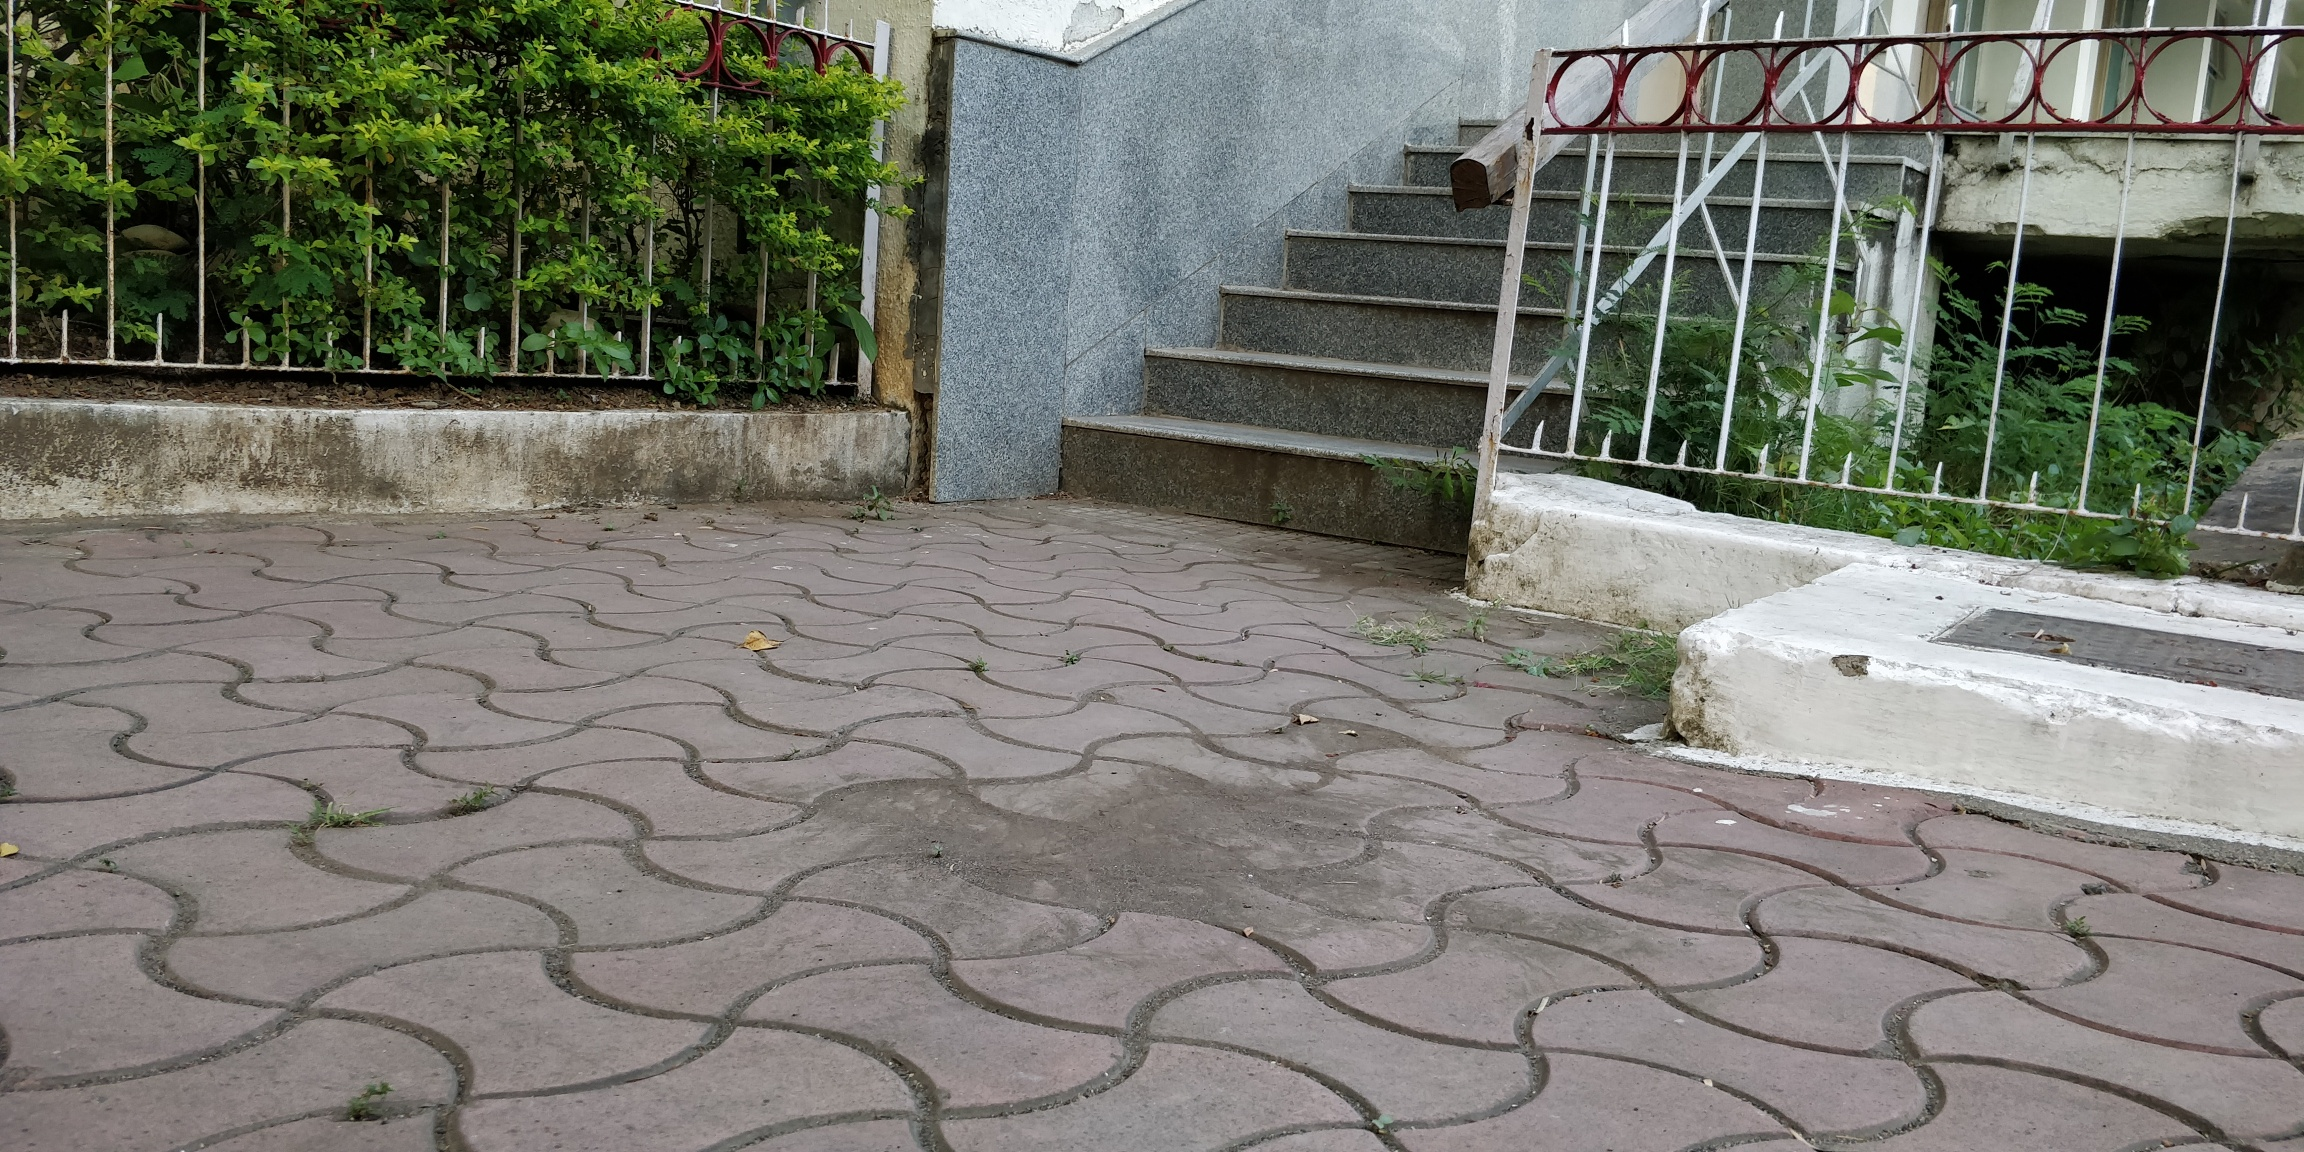stairs_up: (1026, 88, 1515, 602)
